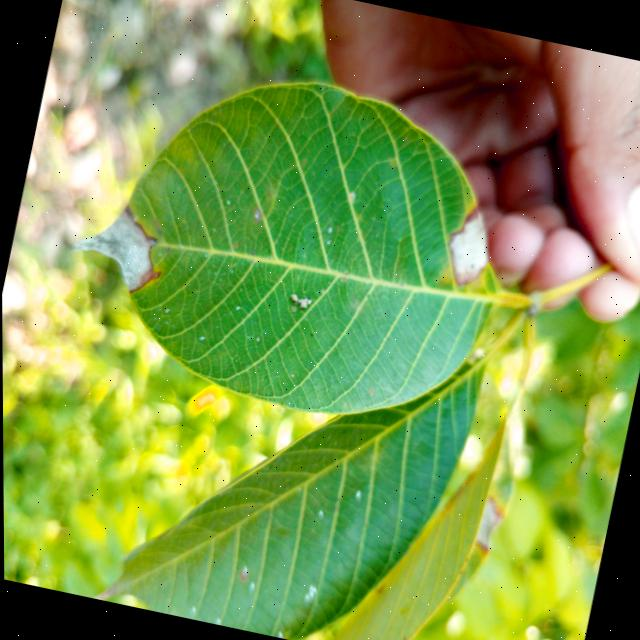Leaf-Blight: (438, 202, 497, 291)
